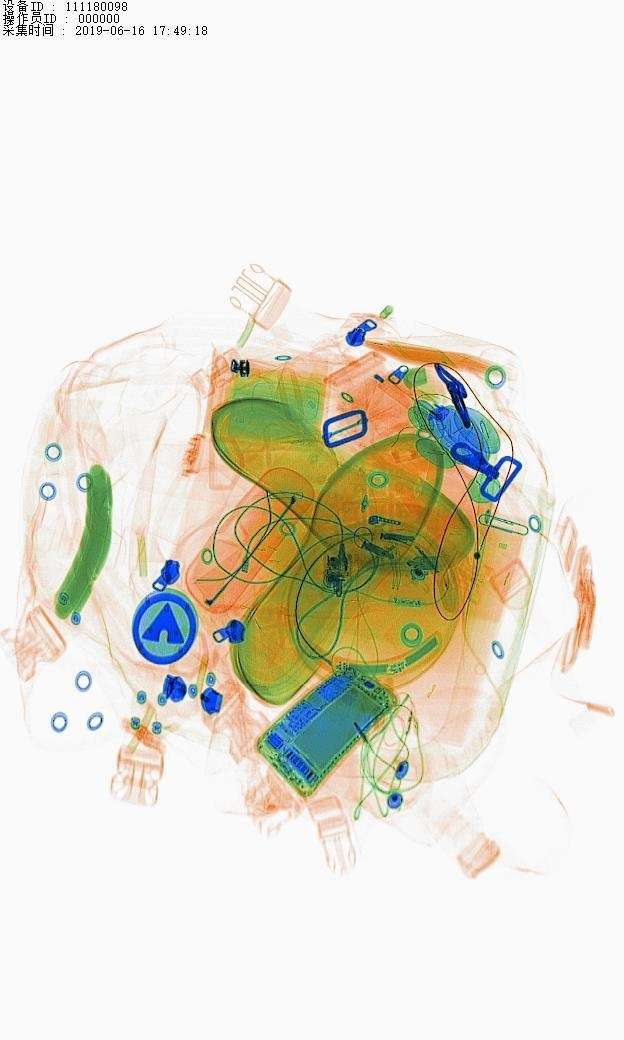NonmetallicFire: (368, 360, 466, 437)
